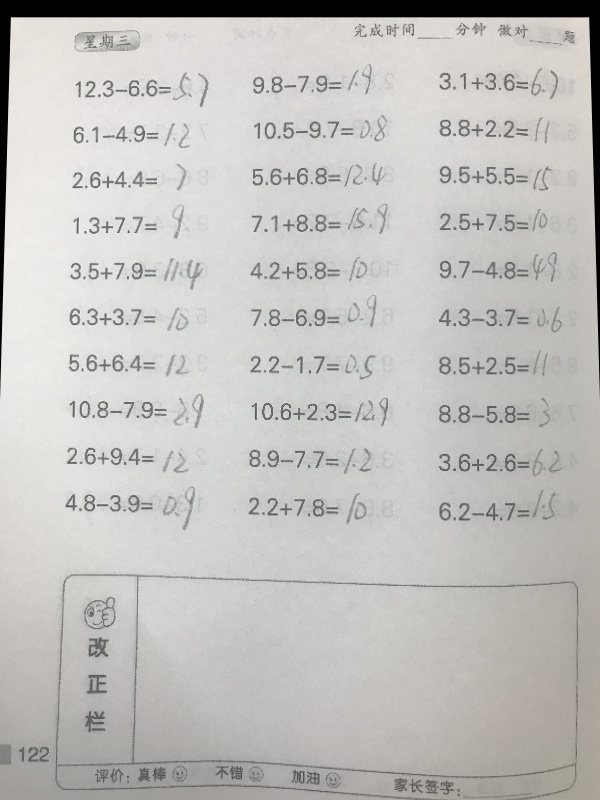equation: (229, 490, 395, 529), (429, 439, 571, 483), (425, 488, 567, 531), (64, 484, 199, 529), (423, 339, 564, 382), (65, 390, 208, 432), (71, 64, 212, 106), (427, 388, 568, 430), (68, 199, 205, 242), (428, 293, 568, 335), (429, 248, 568, 289), (249, 60, 392, 99), (248, 200, 393, 237), (66, 251, 206, 289), (247, 394, 393, 430), (248, 291, 382, 330), (435, 60, 562, 99), (244, 444, 390, 477), (62, 442, 196, 477), (251, 112, 392, 145), (436, 206, 581, 237), (247, 351, 381, 384), (248, 160, 390, 191), (245, 255, 380, 287), (69, 119, 193, 152), (69, 161, 198, 192), (435, 110, 553, 143), (64, 303, 190, 333), (64, 350, 193, 379), (435, 162, 555, 193)
